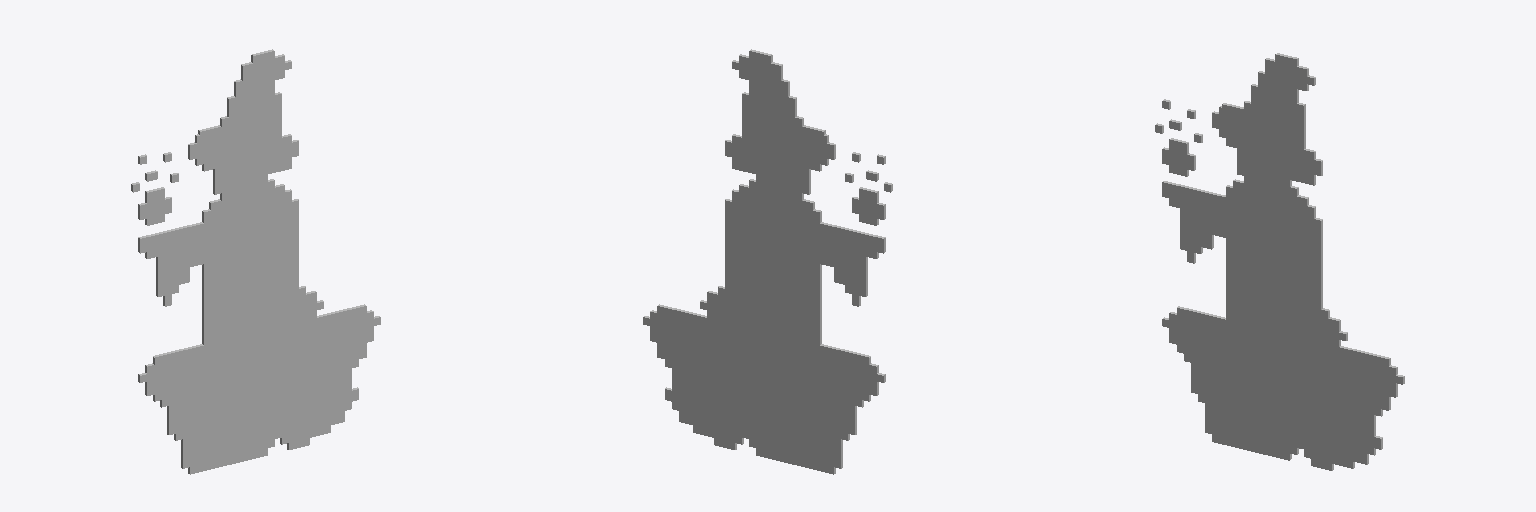
Rendered from mago-0-Fledorah_map.obj.
3 views of the same model, side by side, from view 1: azimuth 30°, elevation 25°; view 2: azimuth 150°, elevation 25°; view 3: azimuth 330°, elevation 25° (orthographic).
Parts seen in each view (by area): view 1: Fledorah map; view 2: Fledorah map; view 3: Fledorah map.
Part boxes in pixels (bbox=[...]): Fledorah map: bbox=[131, 49, 380, 474]; Fledorah map: bbox=[643, 49, 892, 474]; Fledorah map: bbox=[1155, 53, 1404, 470].
Bounding box in the file's own units: 7 × 10.9 × 0.1.